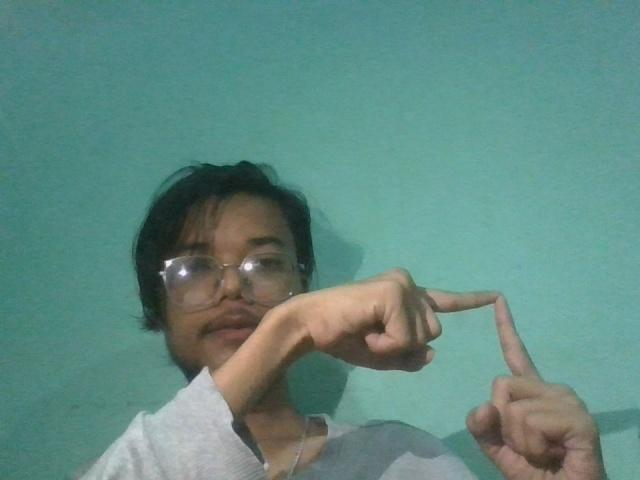When: (271, 245, 612, 465)
